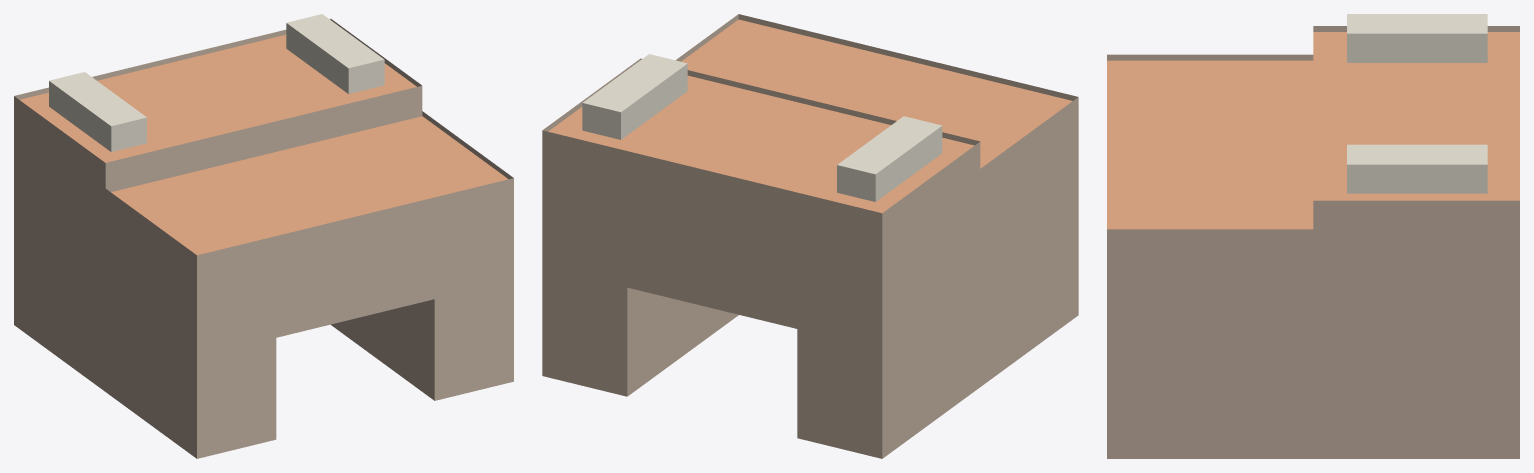
The picture shows the model from 3 angles, left to right: view 1: azimuth 30°, elevation 25°; view 2: azimuth 150°, elevation 25°; view 3: azimuth 270°, elevation 25°; orthographic projection. The views are drawn at different scales.
Parts seen in each view (by area): view 1: Object_5, Object_4, Object_3, Object_1, Object_2; view 2: Object_5, Object_4, Object_3, Object_1, Object_2; view 3: Object_5, Object_4, Object_3, Object_1, Object_2.
Boxes of the visible parts, x1=… form: Object_5: x1=14, y1=18, x2=513, y2=458; Object_4: x1=111, y1=116, x2=508, y2=255; Object_3: x1=19, y1=35, x2=416, y2=162; Object_1: x1=286, y1=14, x2=384, y2=93; Object_2: x1=49, y1=72, x2=146, y2=151; Object_5: x1=542, y1=14, x2=1078, y2=458; Object_4: x1=681, y1=19, x2=1072, y2=168; Object_3: x1=548, y1=75, x2=974, y2=213; Object_1: x1=582, y1=54, x2=687, y2=139; Object_2: x1=837, y1=116, x2=942, y2=201; Object_5: x1=1107, y1=26, x2=1519, y2=458; Object_4: x1=1107, y1=60, x2=1313, y2=229; Object_3: x1=1313, y1=32, x2=1519, y2=200; Object_1: x1=1347, y1=144, x2=1487, y2=193; Object_2: x1=1347, y1=14, x2=1487, y2=62.
Size of the model in its own units: 1283 by 1283 by 966.
